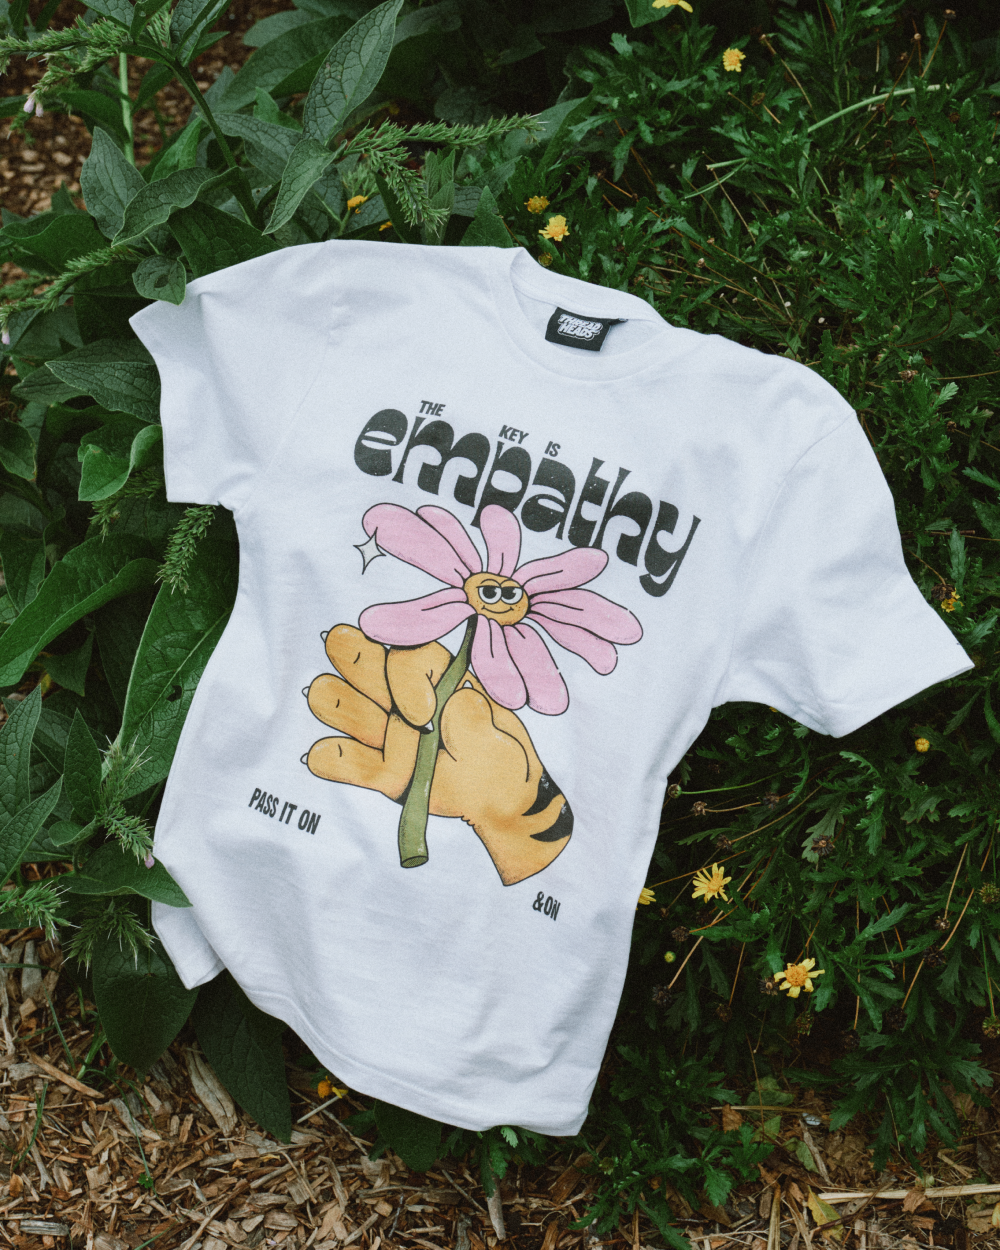design: (240, 391, 708, 930)
